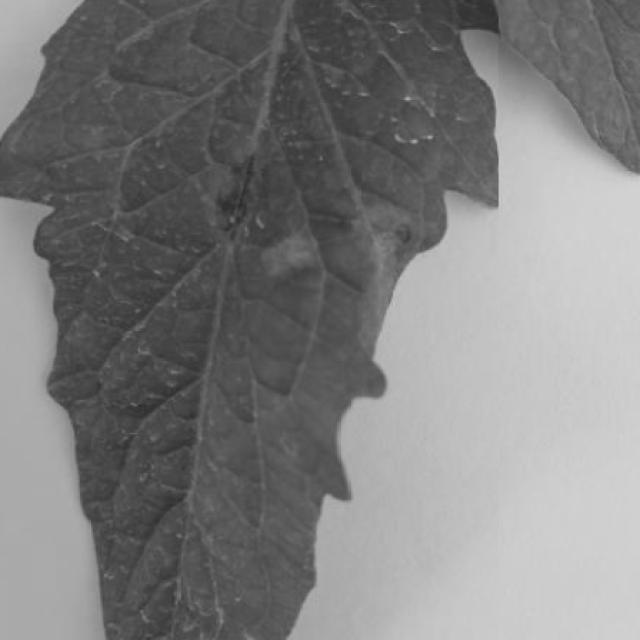Early Blight: (0, 0, 499, 640)
